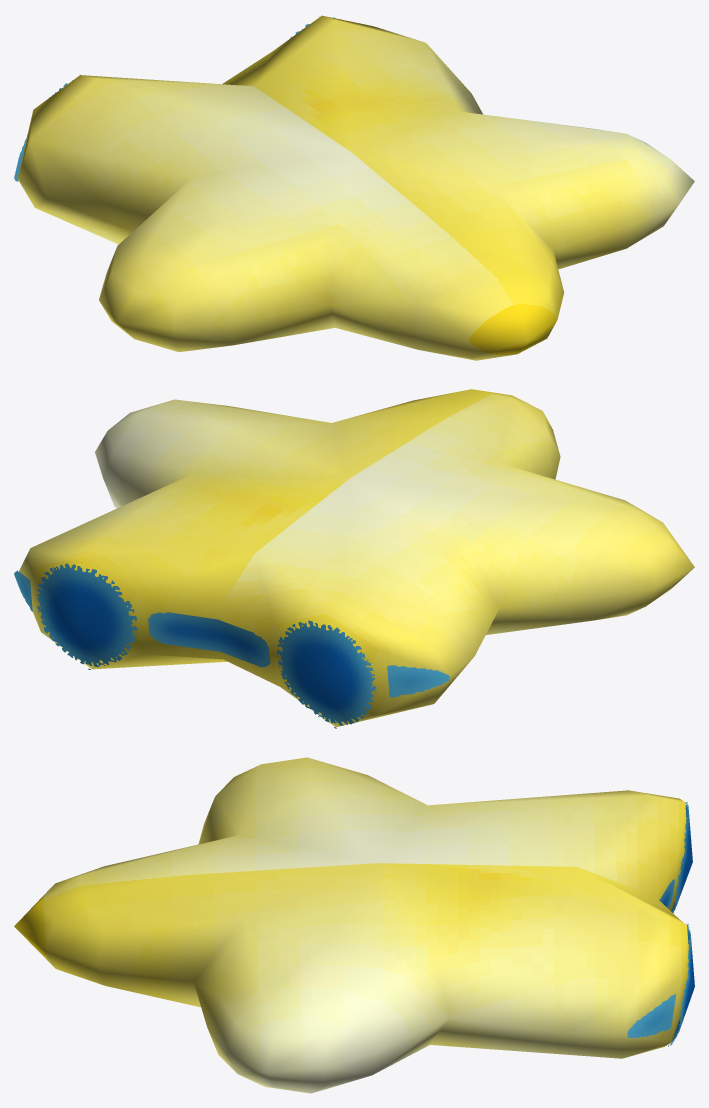
File: Warp Star.dae
The picture shows the model from 3 angles, top to bottom: view 1: azimuth 30°, elevation 25°; view 2: azimuth 150°, elevation 25°; view 3: azimuth 270°, elevation 25°; orthographic projection. The views are drawn at different scales.
Visible parts, largest first — view 1: DrawCall_0201; view 2: DrawCall_0201, DrawCall_0232; view 3: DrawCall_0201, DrawCall_0232.
Part boxes in pixels (<box>): DrawCall_0201: <box>17,15,694,360</box>; DrawCall_0201: <box>19,389,694,727</box>; DrawCall_0232: <box>14,562,450,728</box>; DrawCall_0201: <box>14,757,688,1093</box>; DrawCall_0232: <box>627,802,694,1046</box>.
Size of the model in its own units: 47.47 by 10.32 by 46.66.
Materials: 2 (2 with a texture image).
